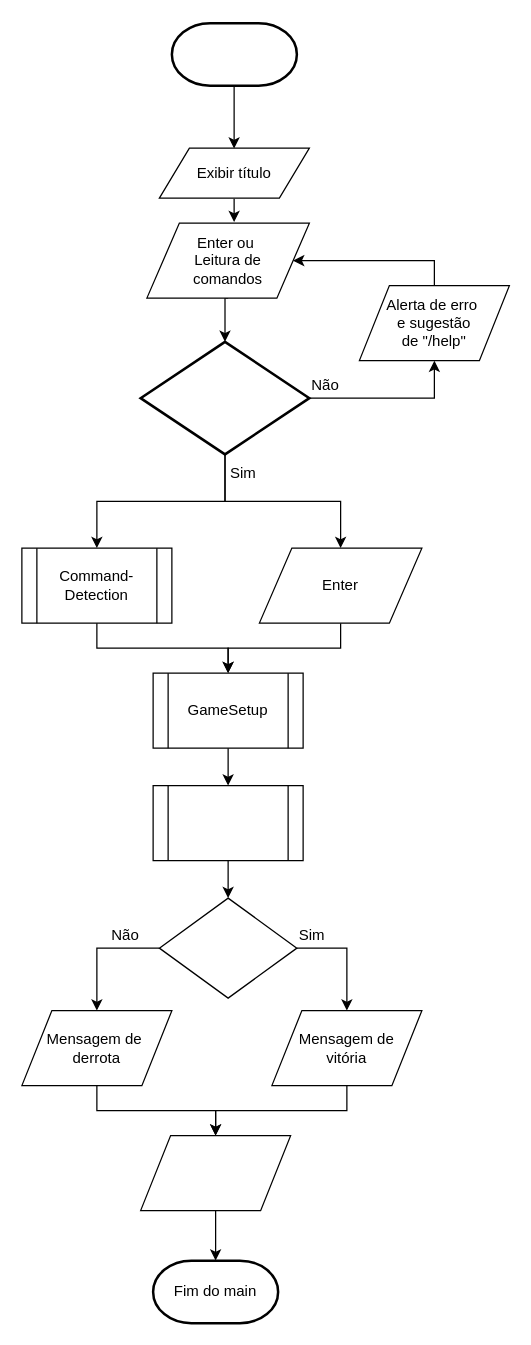
This 531x1345 diagram has some shape labels left out. The shapes that lost their labels are listed below. From the top down, each one's centre as x and y in pixels, then its label:
At [234,53]: "Início do main".
At [224,397]: "Inseriu um comando ou premiu Enter?".
At [227,822]: "Board Printing".
At [227,947]: "Jogo ganho ? (apenas vs pc)".
At [215,1172]: "Display dos dados de jogo".
